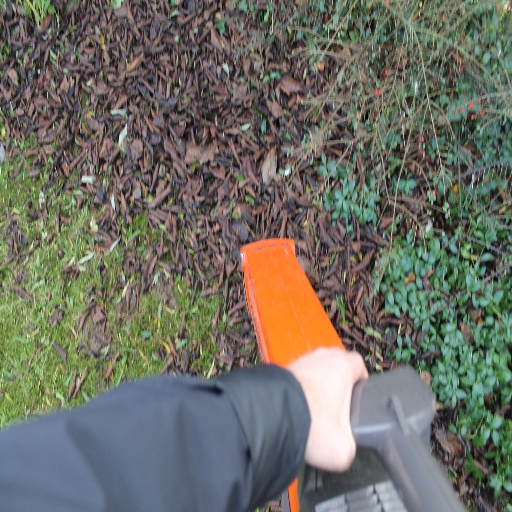hand: (283, 342, 375, 473)
